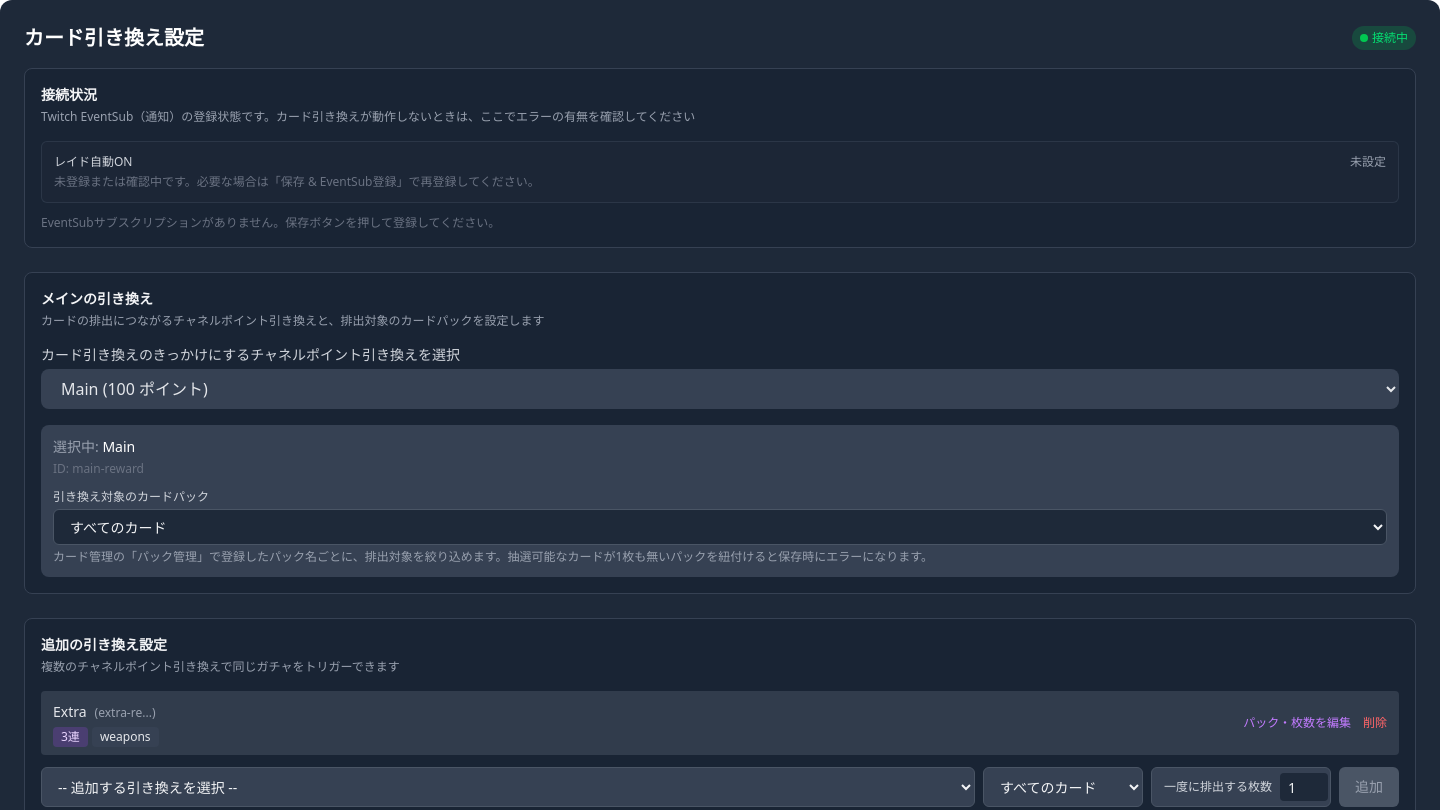
Test case: ChannelPointSettings additional-reward editing › opens the inline edit form prefilled with the current binding
The image size is (1440, 810).
Click the button with aria-label "のパック・枚数を編集": (1297, 723) [1243,715,1351,731]
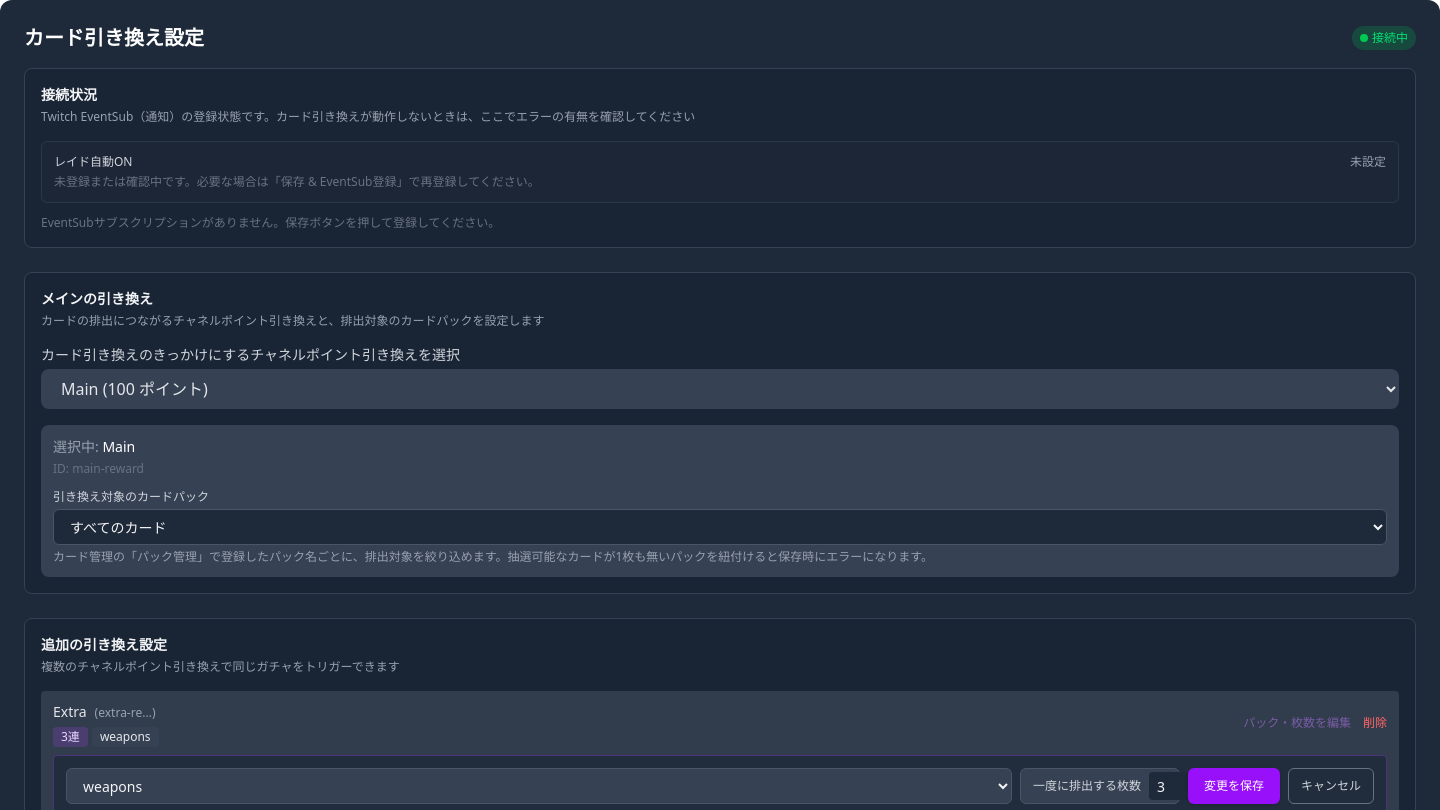
Expected: the dropdown named "編集する引き換えのカードパック" shows "weapons", [66,768,1012,804]
Expected: the number field named "一度に排出する枚数（編集）" holds "3", [1149,772,1197,800]
Expected: the button "変更を保存" is shown, [1188,768,1280,804]
